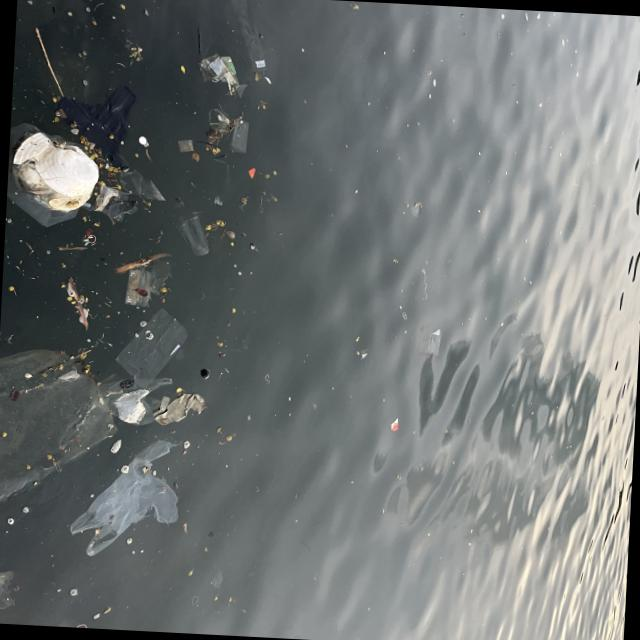foam: (12, 133, 101, 200)
plastic bag: (69, 437, 188, 560)
